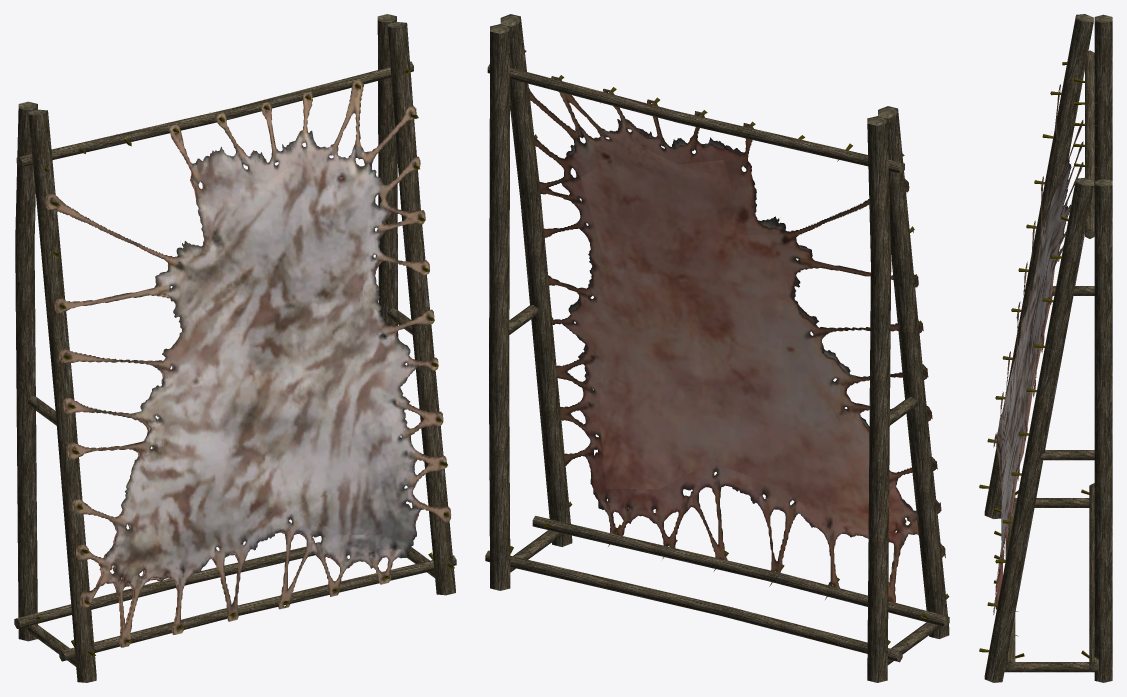
File: thm_dant_hide_tanning_s02_l0.fbx
3 views of the same model, side by side, from view 1: azimuth 30°, elevation 25°; view 2: azimuth 150°, elevation 25°; view 3: azimuth 270°, elevation 25° (orthographic). The views are drawn at different scales.
Parts seen in each view (by area): view 1: mesh_node; view 2: mesh_node; view 3: mesh_node.
Boxes of the visible parts, x1,y1,x2,y2 form: mesh_node: [14, 14, 456, 682]; mesh_node: [485, 14, 949, 682]; mesh_node: [979, 14, 1112, 682].
Bounding box in the file's own units: 1.39 × 1.81 × 0.4395.
